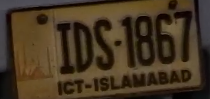IDS1867: (6, 1, 208, 97)
